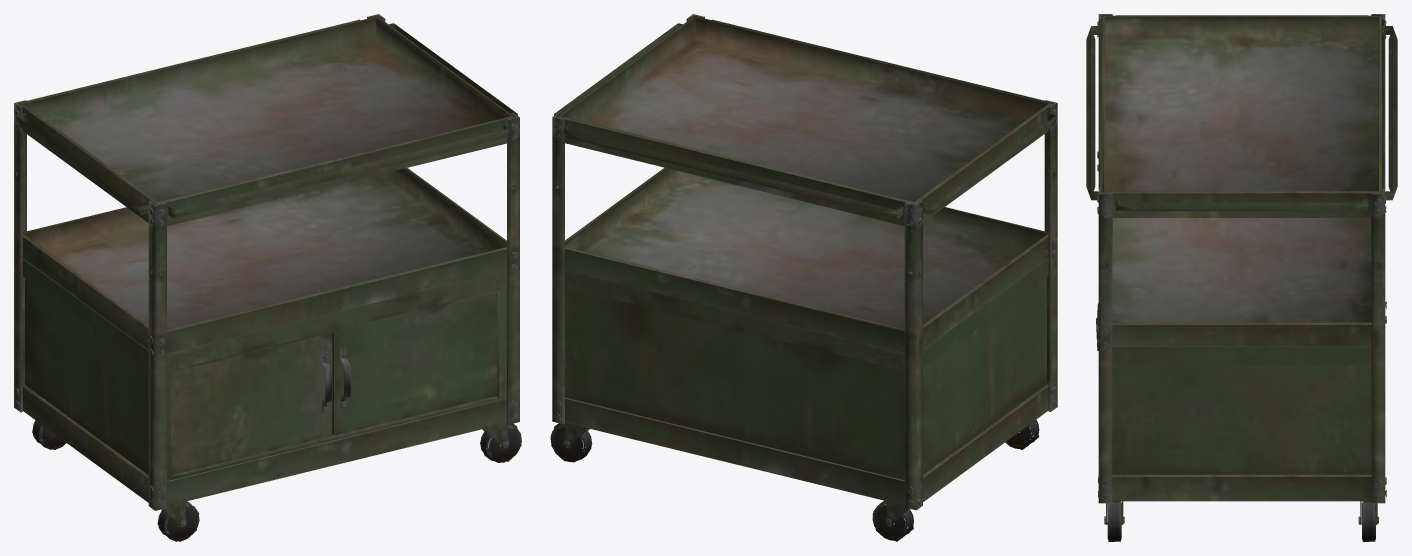
Rendered from industrial_storage_cart.glb.
3 renders of one model, left to right at view 1: azimuth 30°, elevation 25°; view 2: azimuth 150°, elevation 25°; view 3: azimuth 270°, elevation 25°, orthographic.
Visible parts, largest first — view 1: industrial_storage_cart; view 2: industrial_storage_cart; view 3: industrial_storage_cart.
Boxes of the visible parts, x1,y1,x2,y2 form: industrial_storage_cart: [14, 14, 521, 541]; industrial_storage_cart: [550, 14, 1057, 541]; industrial_storage_cart: [1086, 14, 1397, 541].
Bounding box in the file's own units: 1.61 × 1.38 × 1.11.
1 material, 1 textured.
